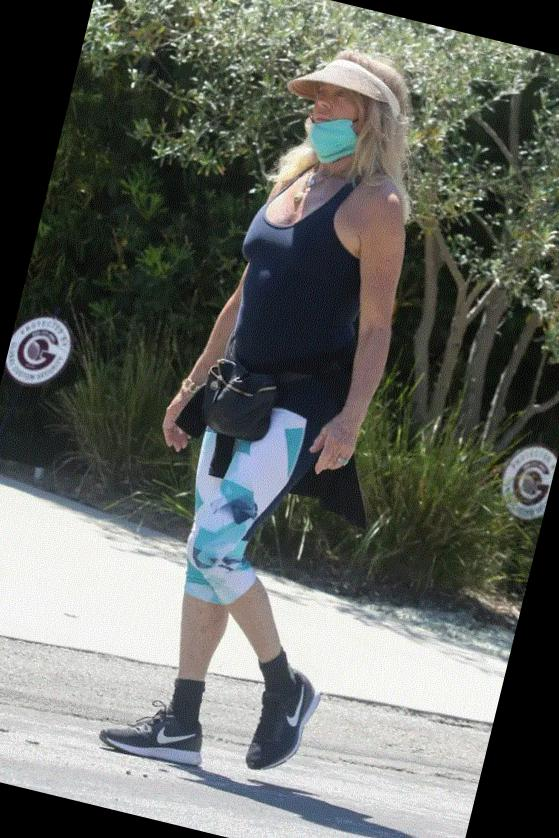mask_weared_incorrect: (298, 83, 361, 148)
